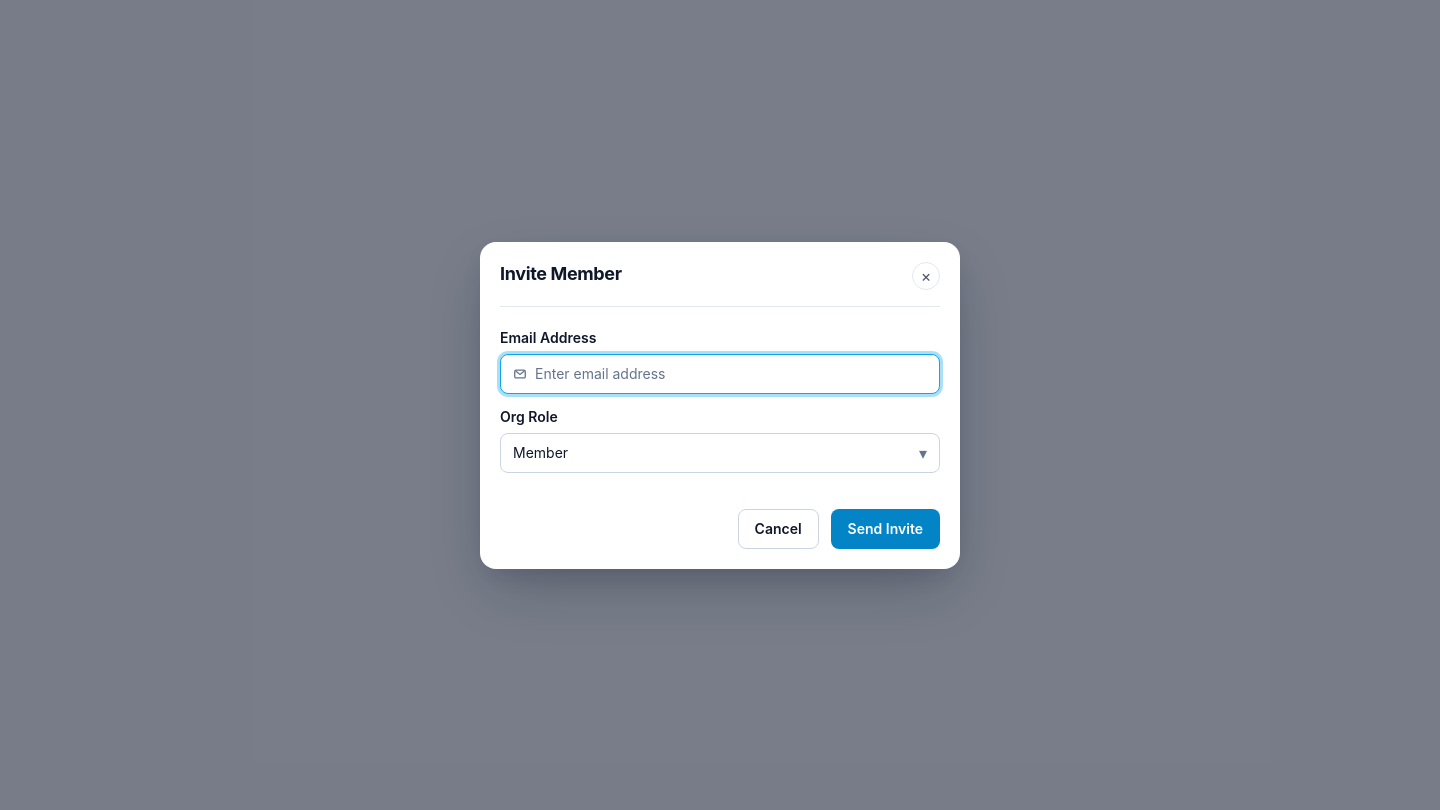
Test case: InviteMemberModal › shows a validation error from the footer submit on a bad email
This screenshot has width=1440, height=810.
In the field labelled "Email Address": (731, 374) 535,356 -> 927,391, type "bad"
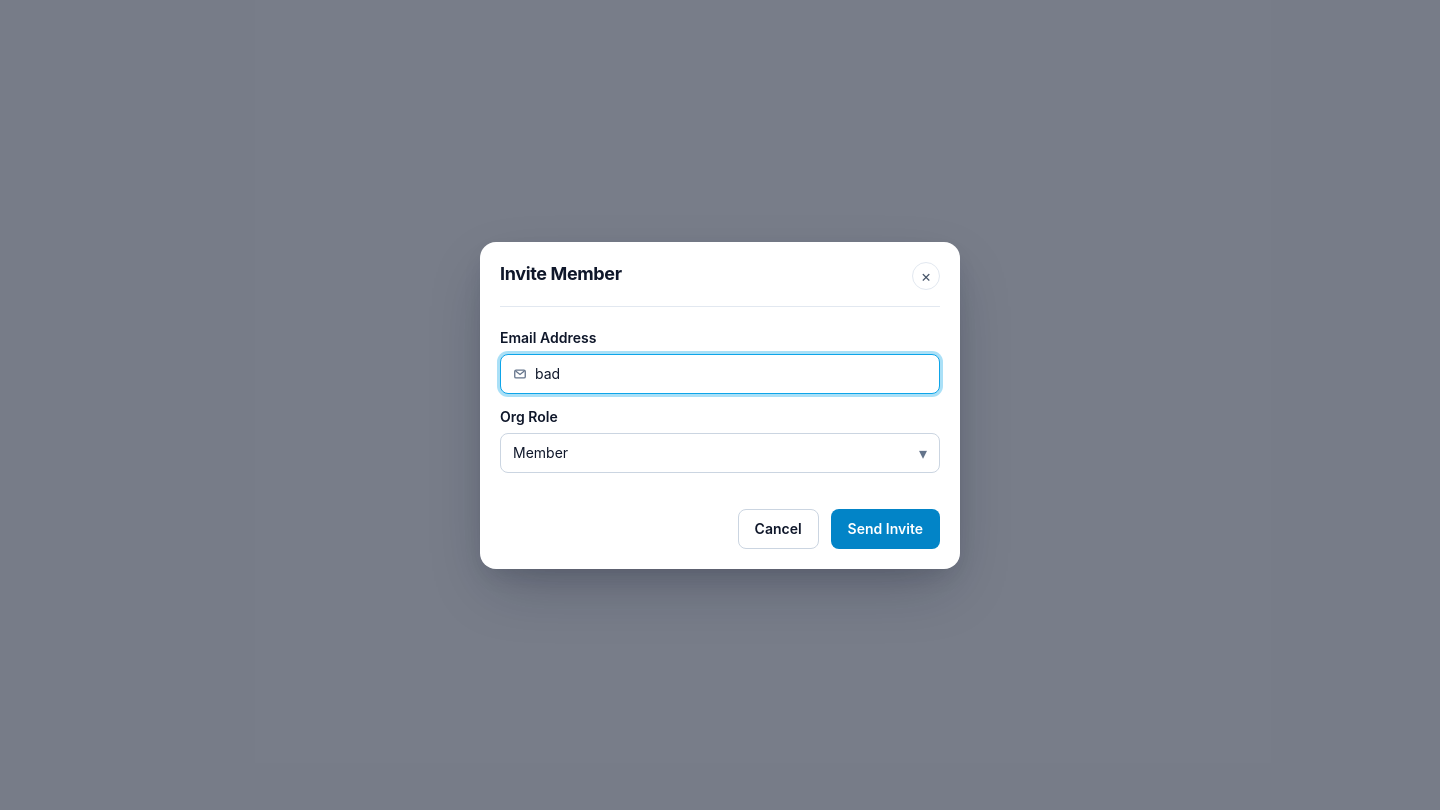
Click the button "Send Invite": (885, 528) 831,508 -> 940,548
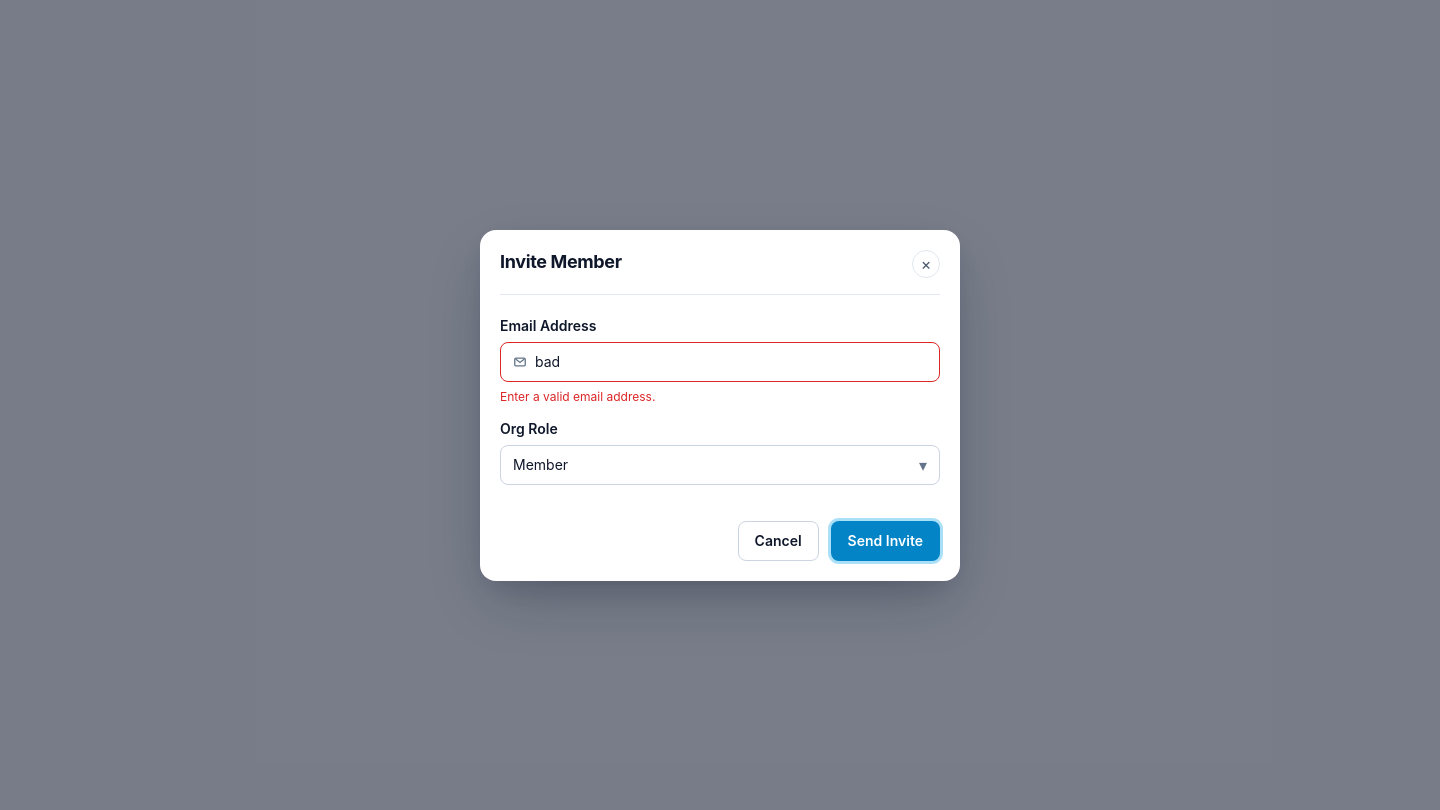
Result: the text "Enter a valid email address." is shown at 500,388 -> 655,404
